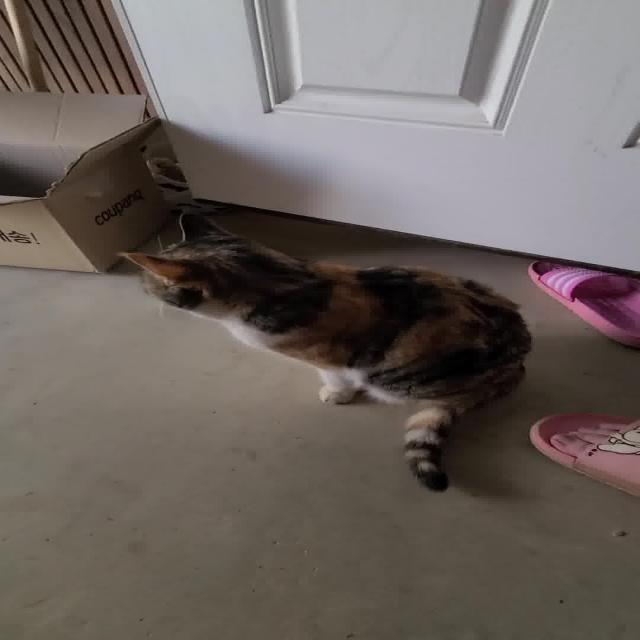cat: (108, 204, 538, 494)
